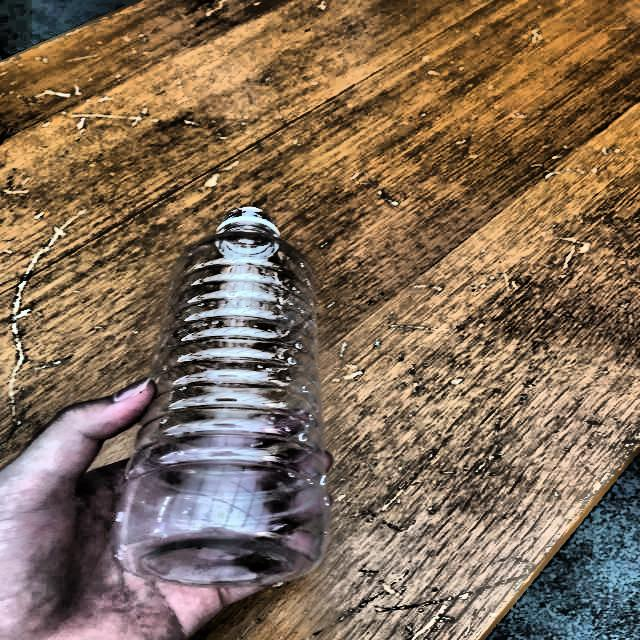plastic bottle: (114, 207, 330, 586)
